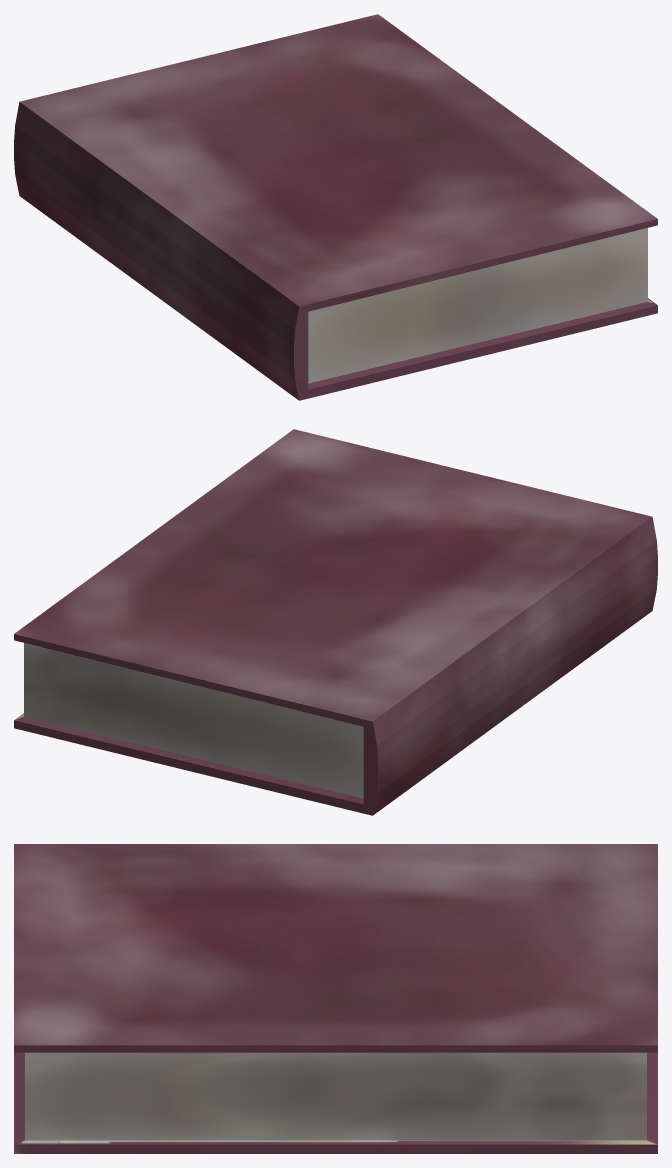
File: Book.fbx
The picture shows the model from 3 angles, top to bottom: view 1: azimuth 30°, elevation 25°; view 2: azimuth 150°, elevation 25°; view 3: azimuth 270°, elevation 25°; orthographic projection. The views are drawn at different scales.
Visible parts, largest first — view 1: Würfel; view 2: Würfel; view 3: Würfel.
Part boxes in pixels (<box>): Würfel: <box>14,14,657,400</box>; Würfel: <box>14,429,657,815</box>; Würfel: <box>14,844,657,1153</box>.
Size of the model in its own units: 808 by 200 by 1076.
1 material, 1 textured.
